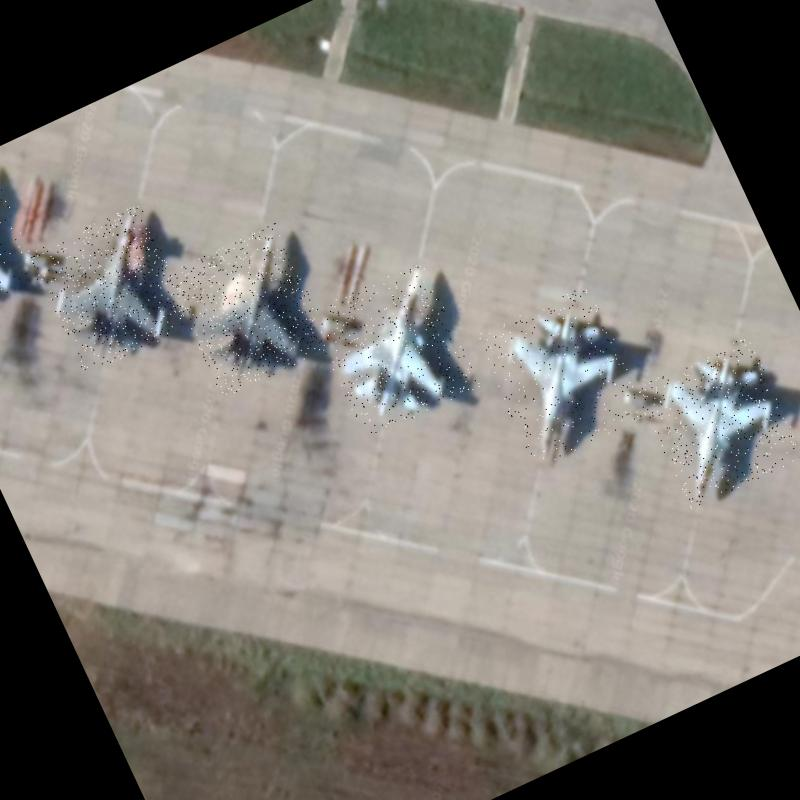A1: (473, 282, 650, 468), (306, 258, 480, 440), (165, 222, 333, 398), (634, 334, 800, 509), (29, 202, 196, 375), (0, 154, 44, 332)
